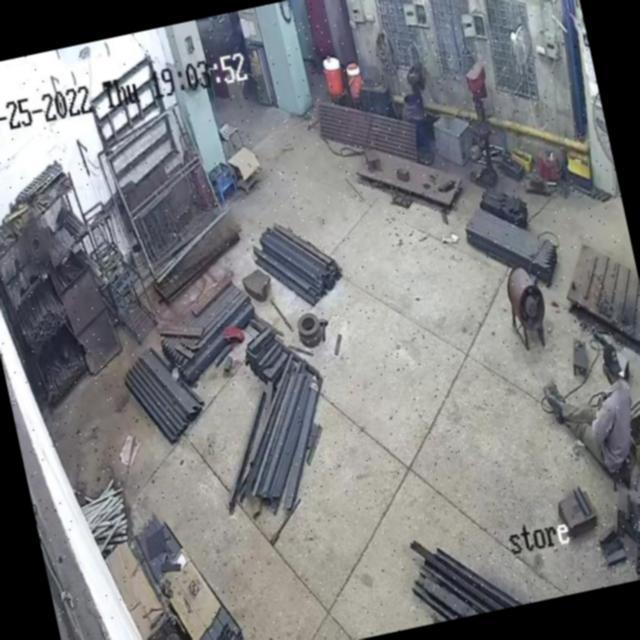person: (547, 353, 640, 476)
